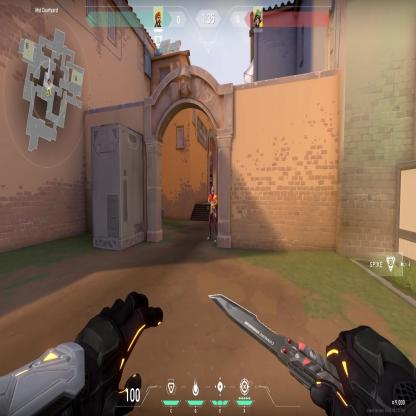enemy: (206, 186, 218, 242)
